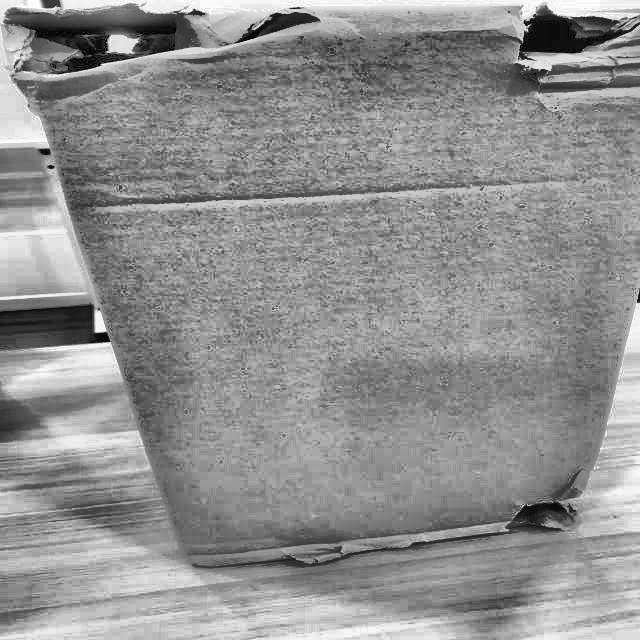box: (0, 0, 639, 580)
hole: (17, 9, 319, 87), (522, 4, 640, 82), (502, 495, 581, 533)
